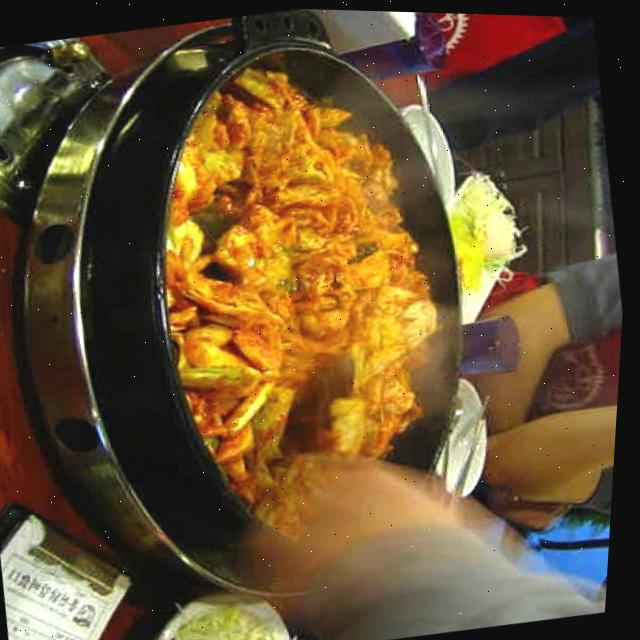鸡肉料理 含炸鸡: (2, 1, 545, 636)
